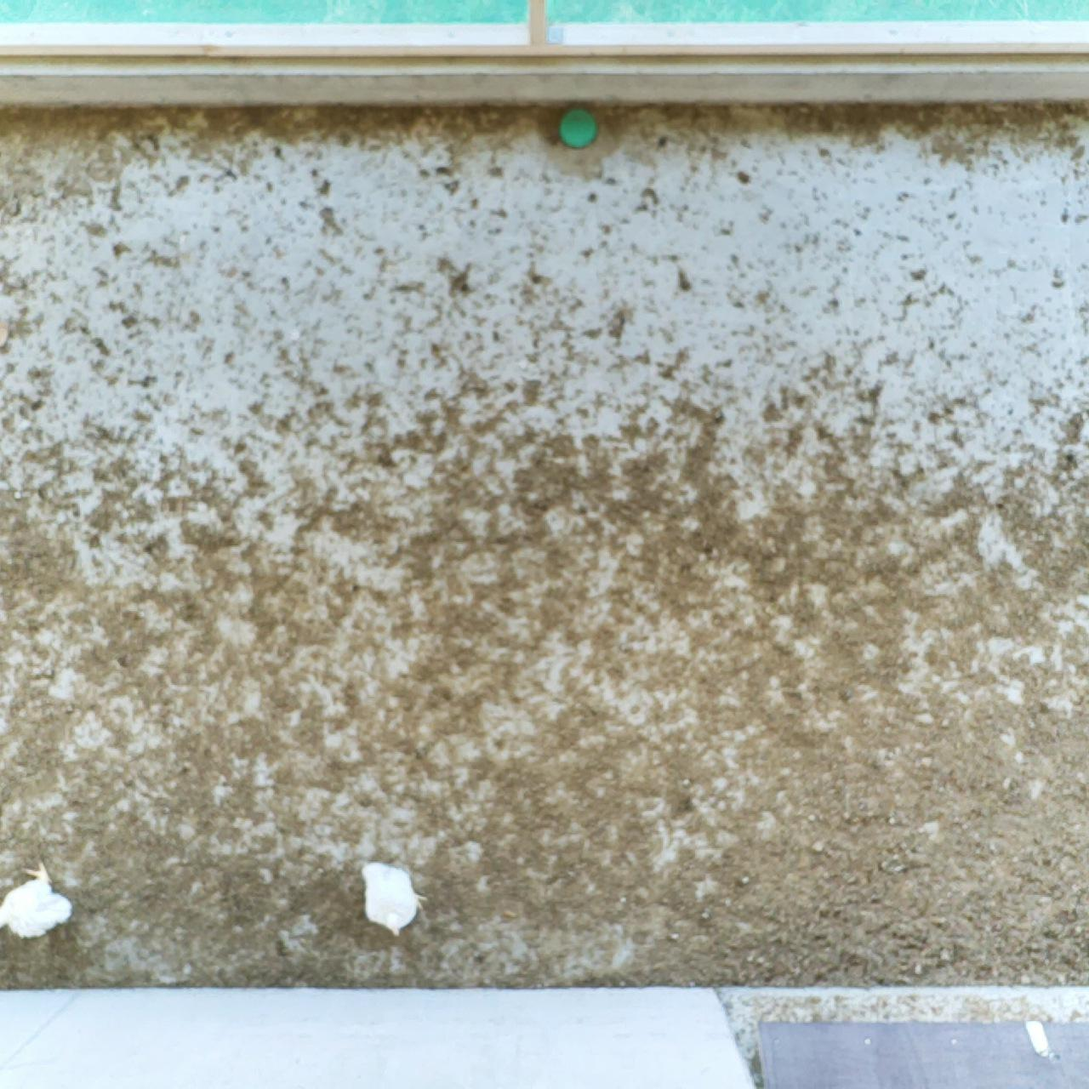chicken: (0, 855, 80, 948), (353, 857, 429, 940)
